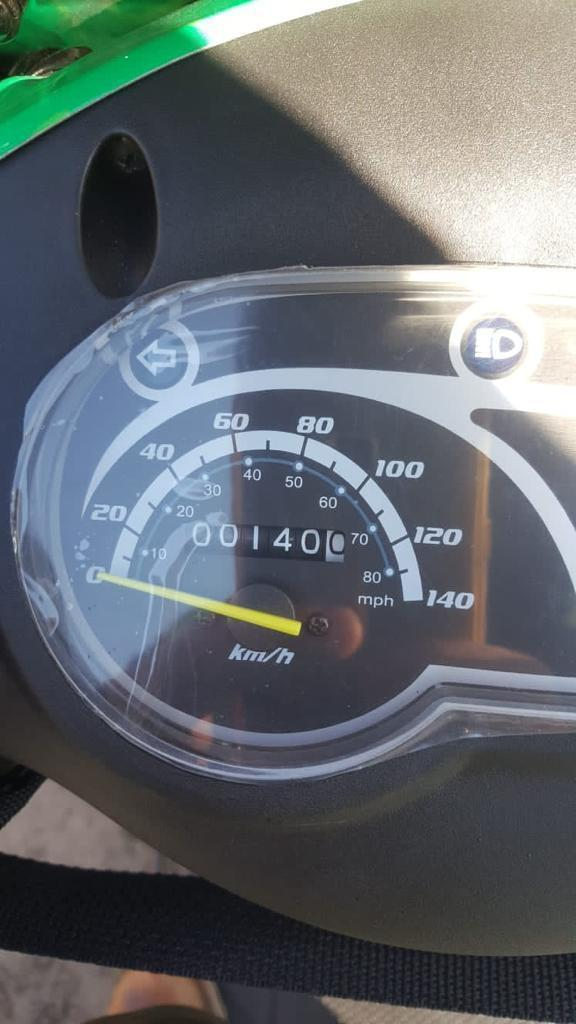0: (299, 528, 319, 555), (218, 522, 238, 548), (328, 530, 347, 555), (192, 521, 211, 546)
1: (252, 524, 260, 552)
4: (272, 527, 292, 552)
odometer: (184, 517, 352, 563)
